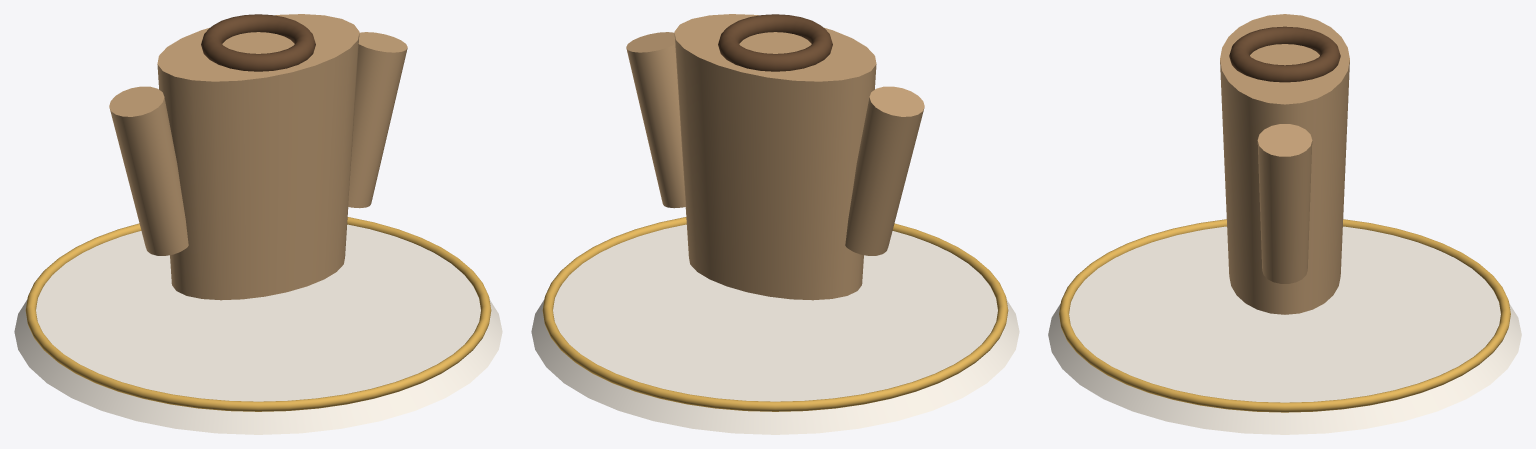
Rendered from toko3_trench_trench_3d_model_46228.glb.
3 views of the same model, side by side, from view 1: azimuth 30°, elevation 25°; view 2: azimuth 150°, elevation 25°; view 3: azimuth 270°, elevation 25° (orthographic). The views are drawn at different scales.
Bounding box in the file's own units: 2.08 × 1.4 × 2.08.
